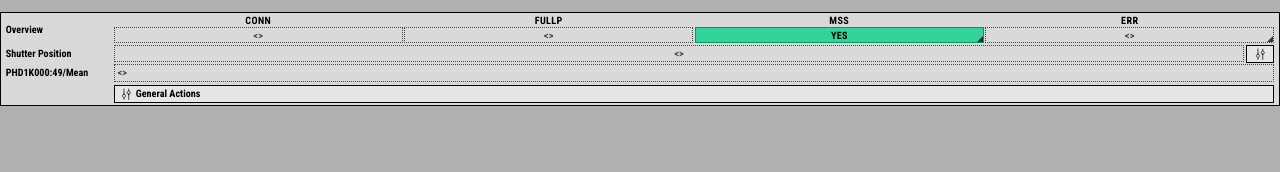
GeneralSection › lets the config choose the MSS wording per indicator
What coordinates should you click on to do the following:
click the button with aria-label "Toggle MSS detail"
I would click on:
 (839, 35)
Its box is top-left (695, 27), bottom-right (984, 43).
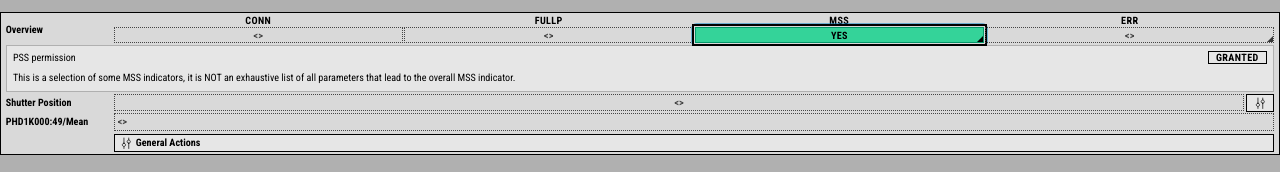
Check: the text "GRANTED" is shown, box top-left (1208, 50), bottom-right (1267, 64)
